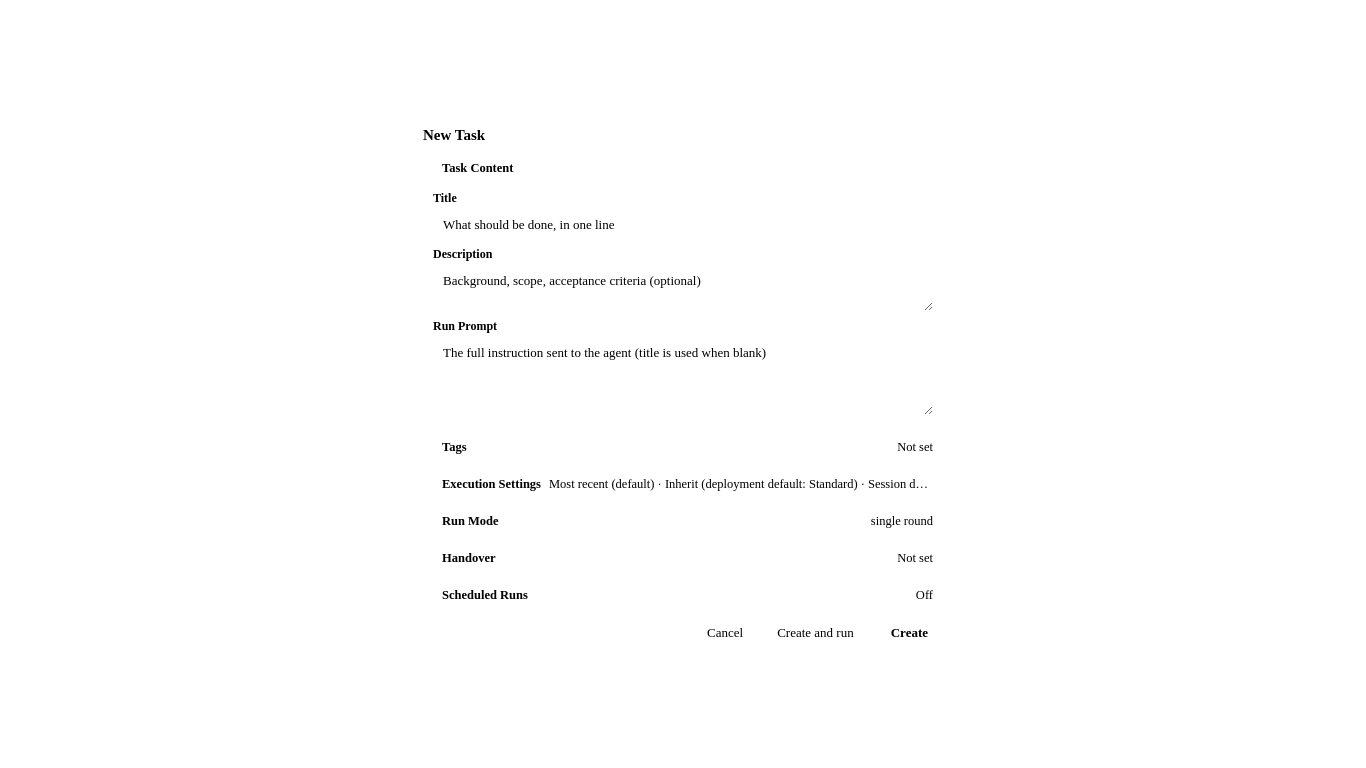
create-task dialog regions › user expanding a region reaches the configuration it holds
Check: the text "Workspace" is not shown
Click the button that starts with "Execution Settings" at coordinates (683, 484), box top-left (423, 470), bottom-right (943, 498)
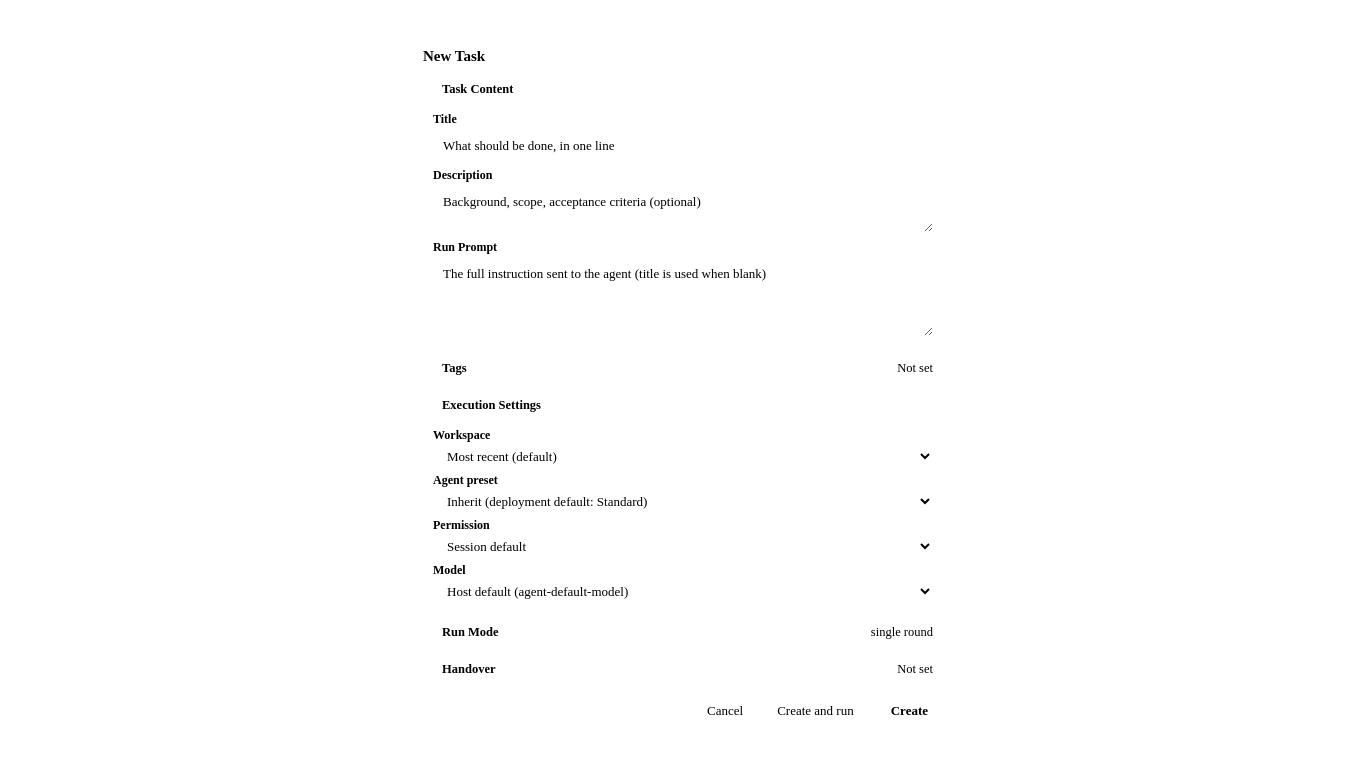
Check: the button "Execution Settings" is expanded, box top-left (423, 391), bottom-right (943, 420)
Check: the text "Workspace" is shown, box top-left (433, 428), bottom-right (490, 442)
Check: the text "Agent preset" is shown, box top-left (433, 473), bottom-right (498, 487)
